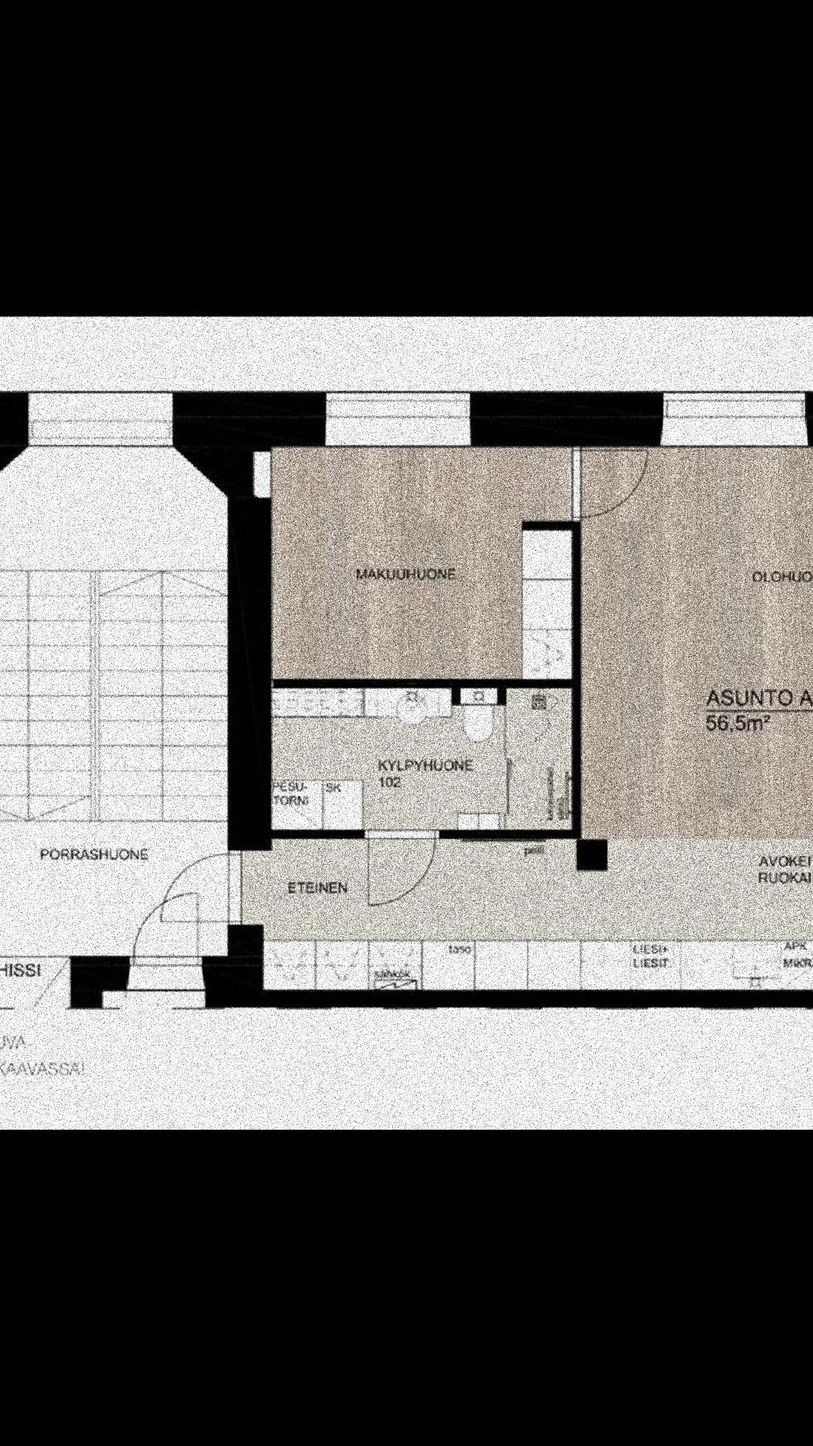door: (565, 443, 649, 523), (130, 884, 199, 980), (358, 824, 430, 905), (167, 853, 238, 924)
window: (652, 388, 813, 448), (25, 384, 173, 440), (326, 388, 475, 442)
zone: (251, 445, 813, 997), (0, 393, 239, 1009), (265, 442, 574, 673), (272, 684, 572, 833)
